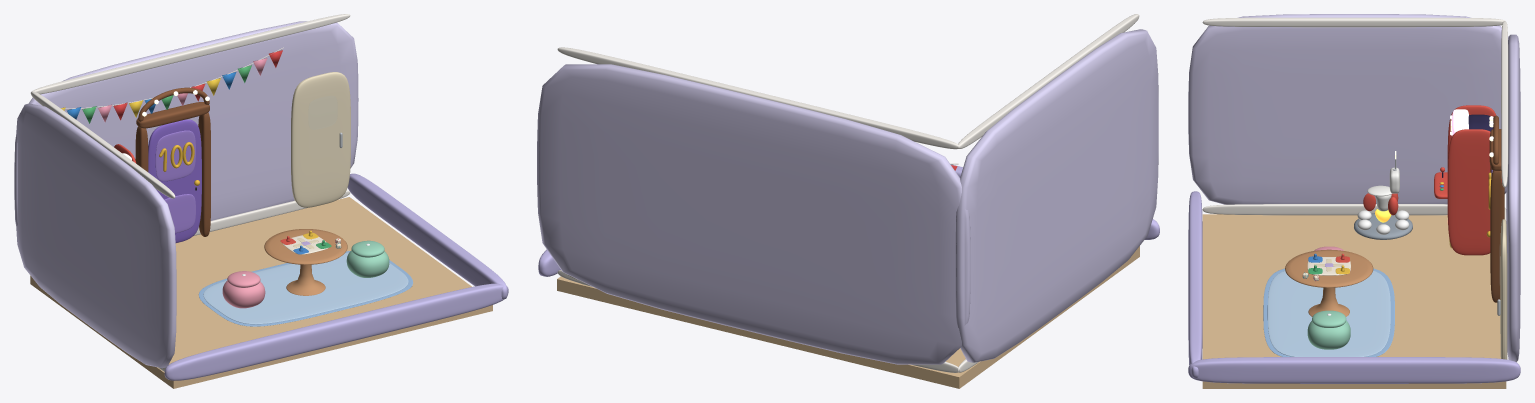
Rendered from casa_juegos.glb.
The picture shows the model from 3 angles, left to right: view 1: azimuth 30°, elevation 25°; view 2: azimuth 150°, elevation 25°; view 3: azimuth 270°, elevation 25°; orthographic projection. The views are drawn at different scales.
Parts seen in each view (by area): view 1: pared izquierda, pared fondo, piso, muro bajo frente, puerta, tapete, muro bajo derecha, cornisa fondo, hoja cien, tabla mesa juegos, tablero alto cien, jamba cien.001 (+12 smaller); view 2: pared fondo, pared izquierda, piso, cornisa fondo, cornisa izquierda; view 3: pared izquierda, piso, muro bajo derecha, tapete, lado arcade.001, pared fondo, cornisa izquierda, muro bajo frente, zócalo izquierdo, tabla mesa juegos, jamba cien.001, cornisa fondo (+13 smaller).
Boxes of the visible parts, x1,y1,x2,y2 form: pared izquierda: [16, 103, 176, 368]; pared fondo: [14, 21, 358, 226]; piso: [30, 197, 492, 388]; muro bajo frente: [164, 283, 508, 380]; puerta: [291, 72, 350, 207]; tapete: [203, 252, 408, 324]; muro bajo derecha: [347, 173, 507, 299]; cornisa fondo: [30, 14, 350, 94]; hoja cien: [148, 119, 201, 242]; tabla mesa juegos: [264, 229, 347, 264]; tablero alto cien: [155, 130, 195, 181]; jamba cien.001: [198, 112, 210, 236]; pared fondo: [537, 64, 970, 364]; pared izquierda: [955, 29, 1158, 362]; piso: [557, 246, 1139, 388]; cornisa fondo: [557, 47, 959, 149]; cornisa izquierda: [957, 14, 1139, 148]; pared izquierda: [1188, 14, 1520, 204]; piso: [1202, 214, 1506, 388]; muro bajo derecha: [1188, 357, 1520, 383]; tapete: [1267, 270, 1390, 356]; lado arcade.001: [1447, 129, 1490, 255]; pared fondo: [1506, 34, 1520, 362]; cornisa izquierda: [1202, 17, 1504, 27]; muro bajo frente: [1188, 191, 1202, 378]; zócalo izquierdo: [1202, 204, 1506, 215]; tabla mesa juegos: [1285, 249, 1373, 287]; jamba cien.001: [1490, 170, 1504, 302]; cornisa fondo: [1501, 21, 1508, 187].
Bounding box in the file's own units: 5.8 × 3.15 × 4.6.
